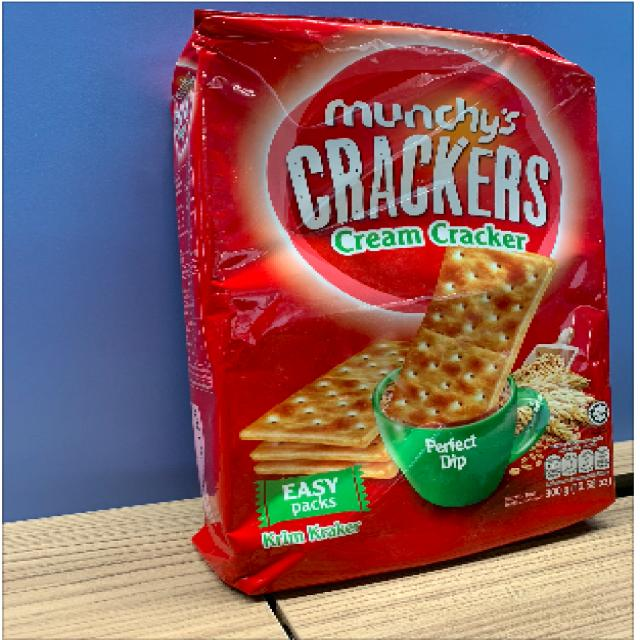object_name: (188, 25, 615, 541)
